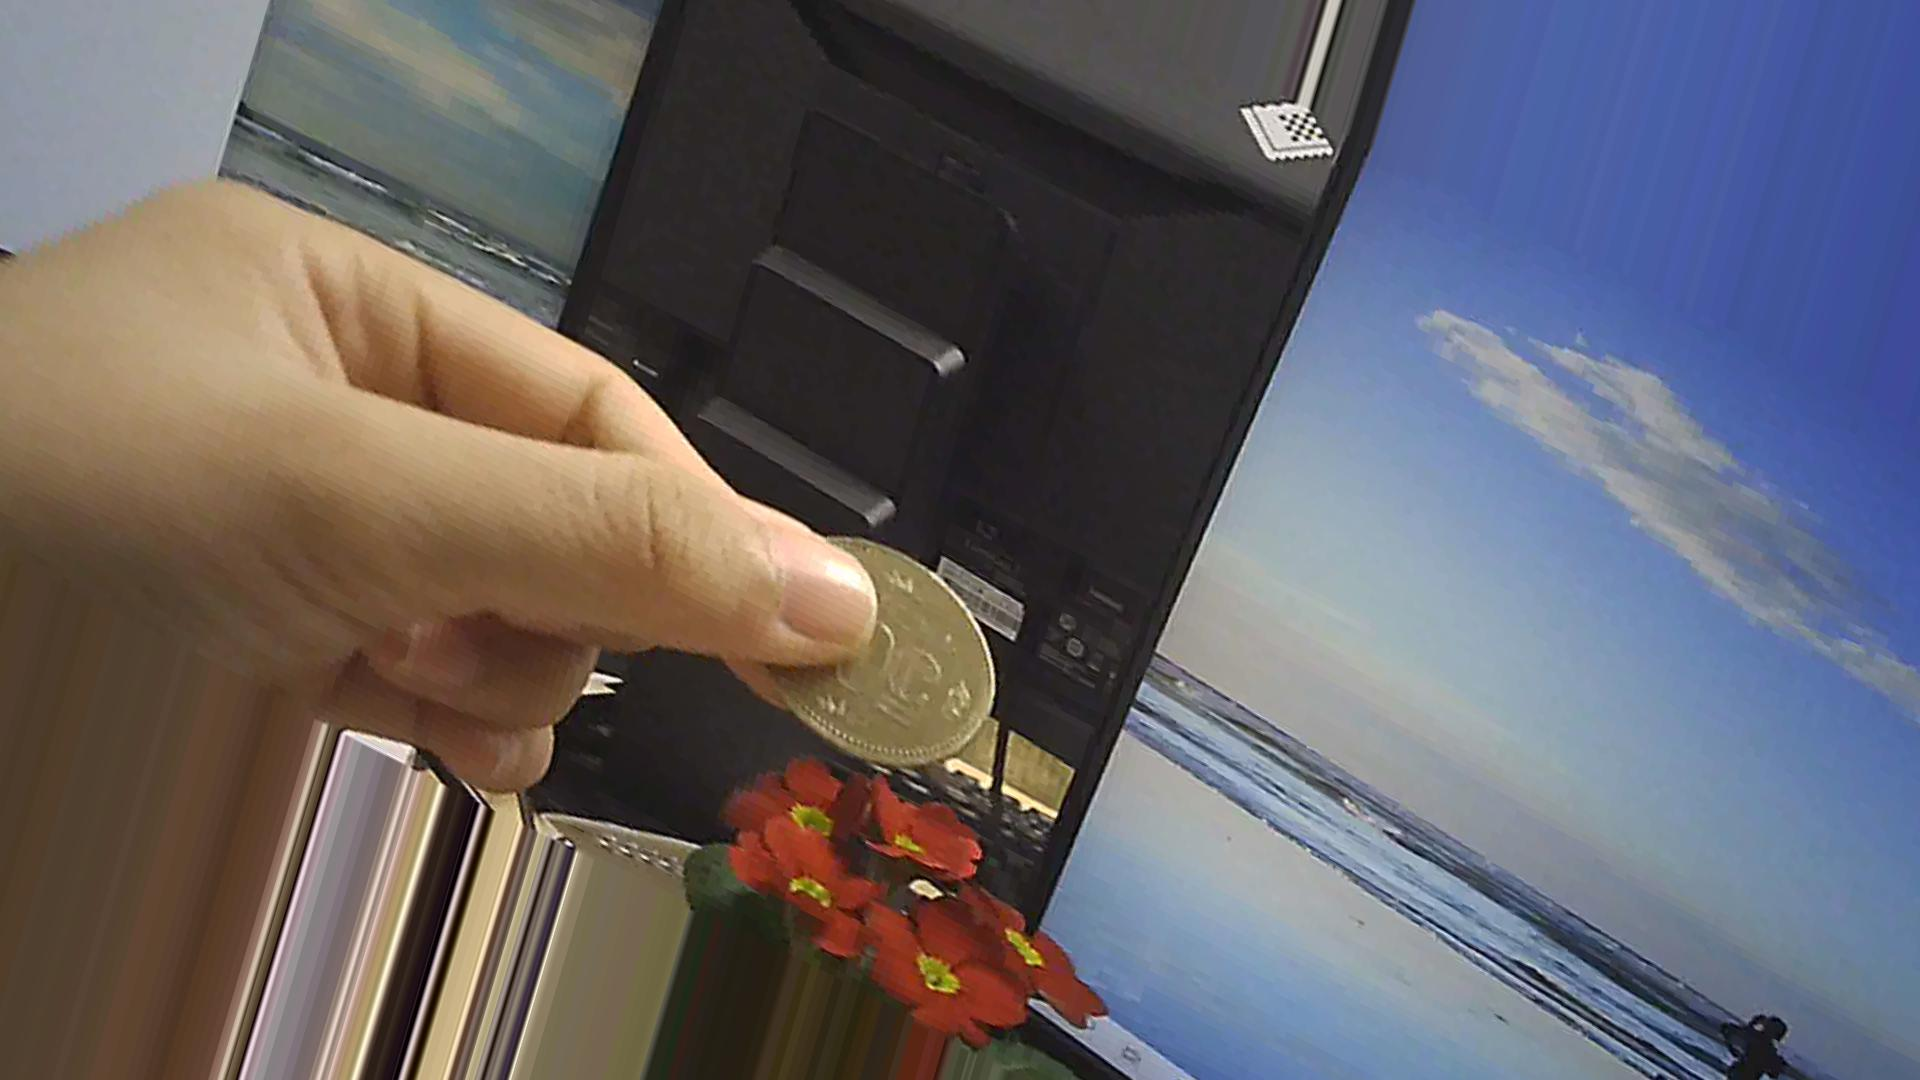500 Yen: (752, 506, 1023, 777)
